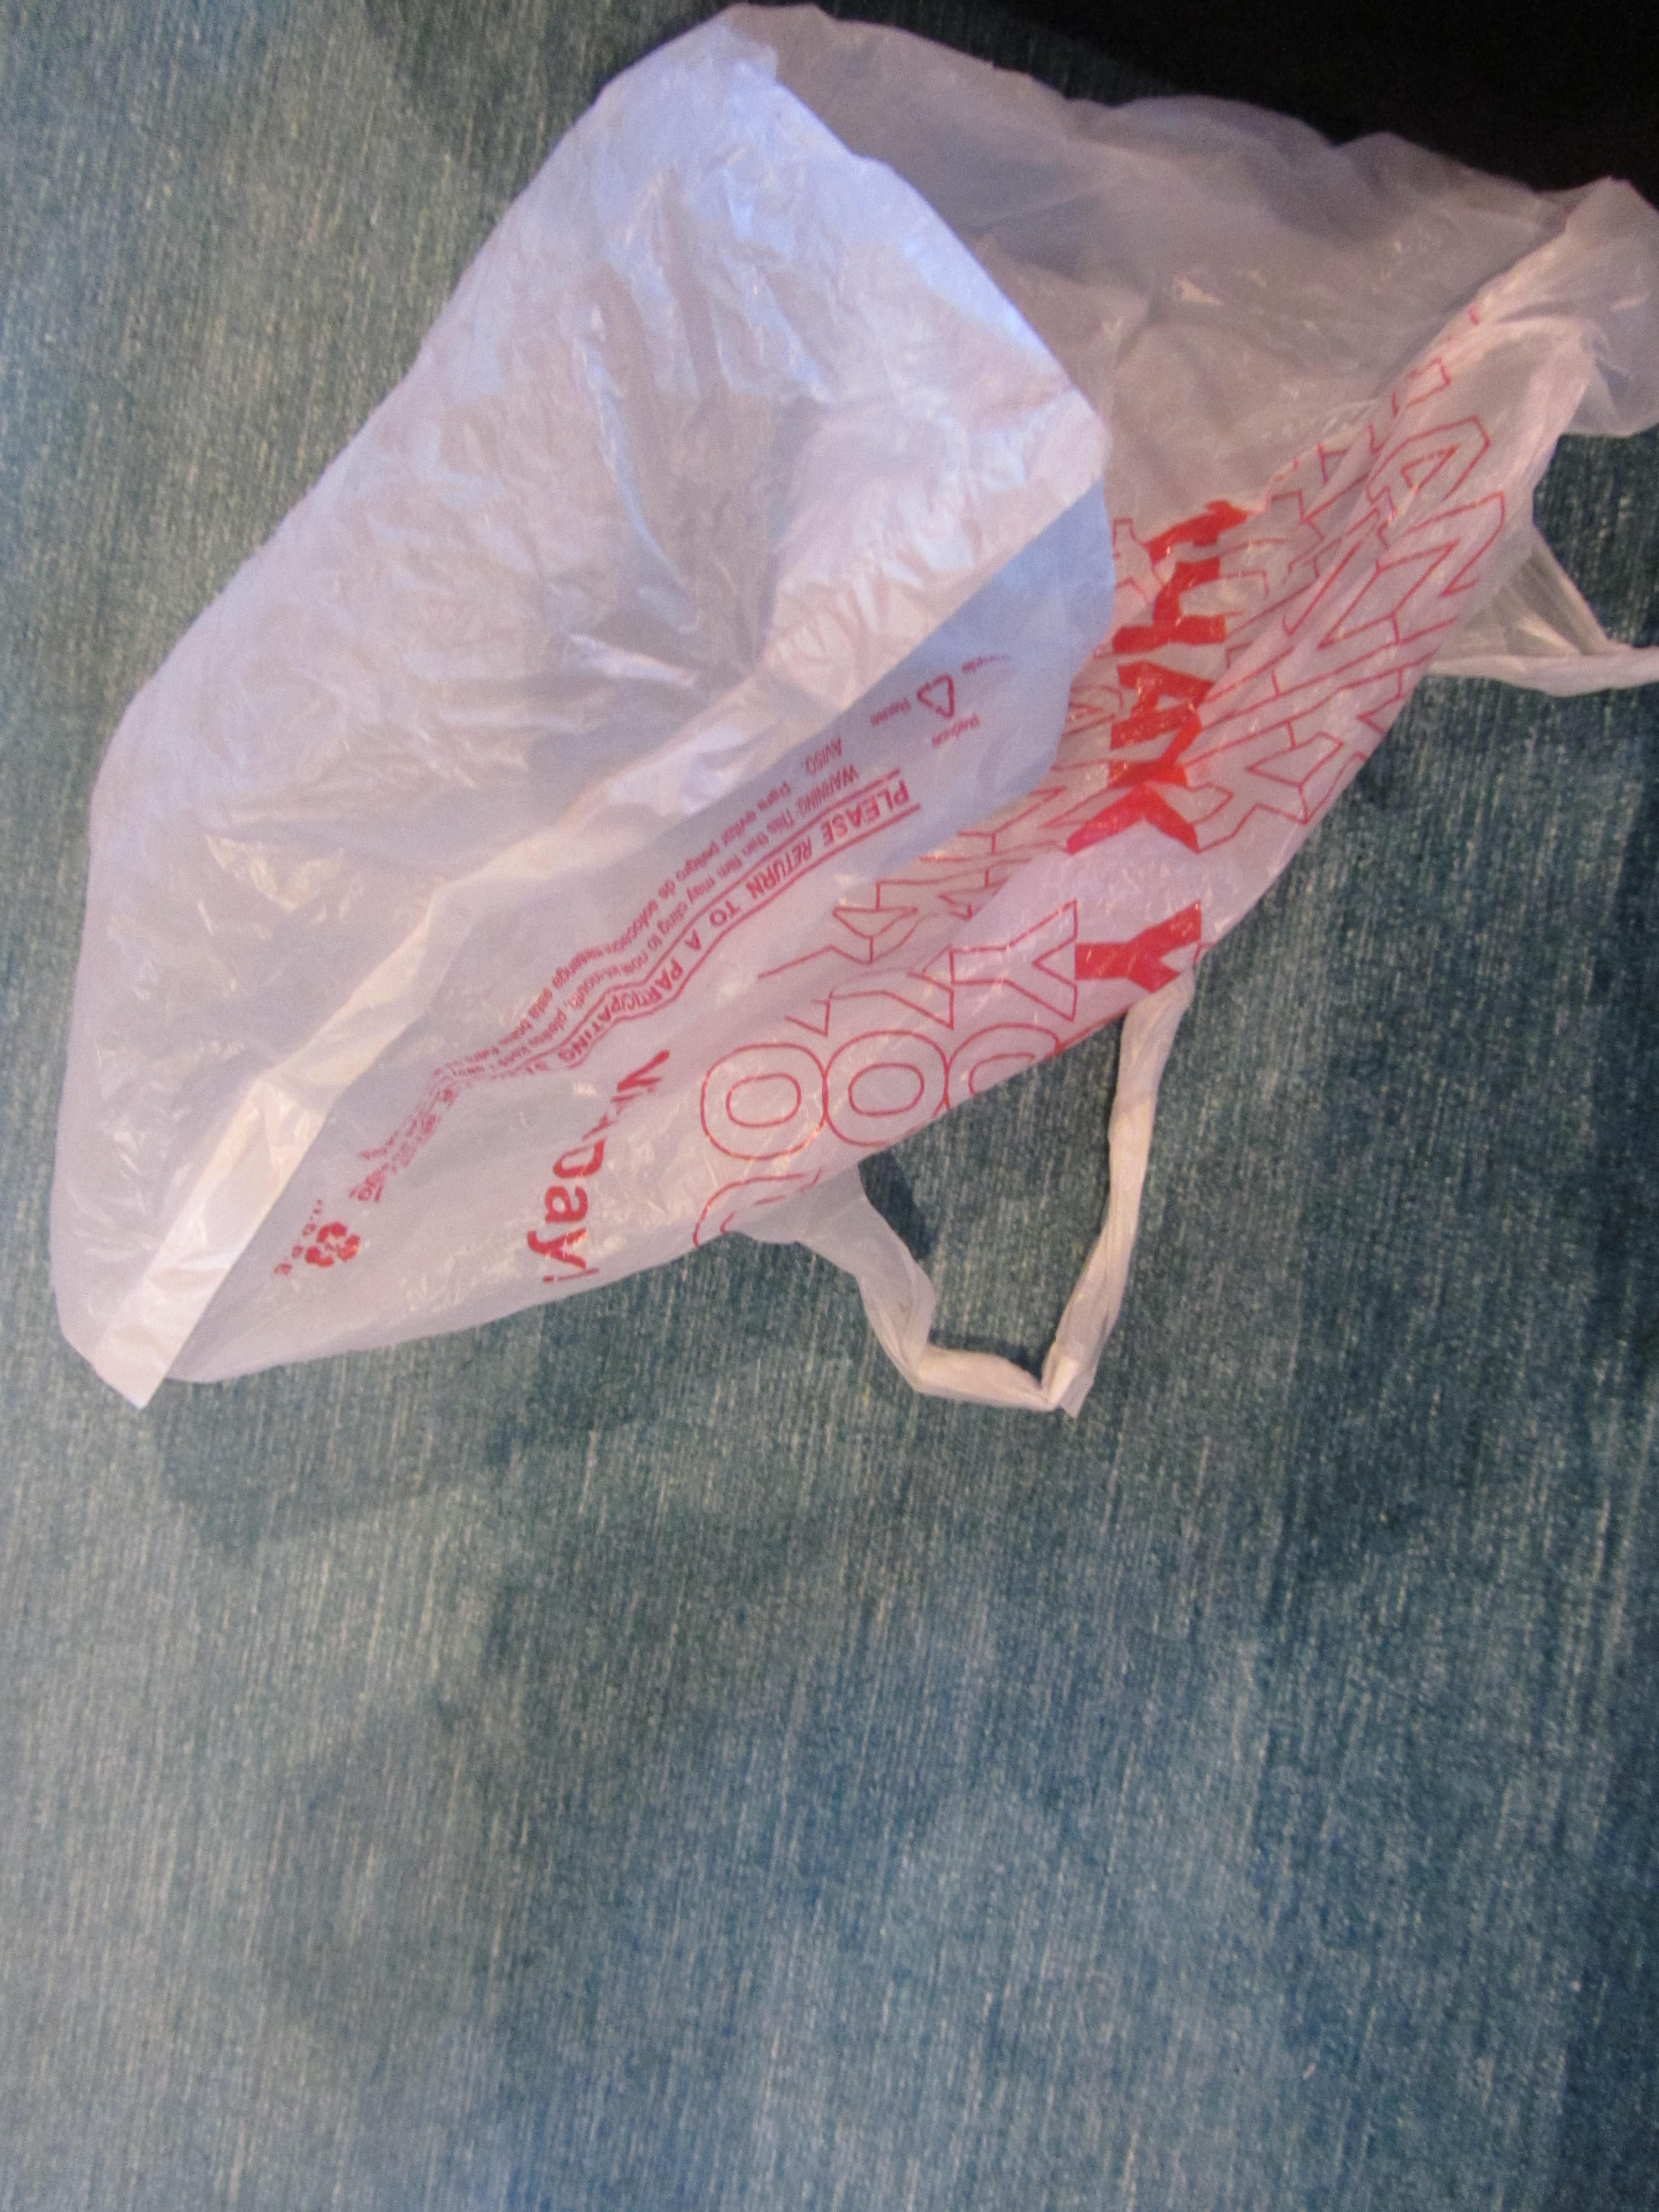plastic_bag: (33, 0, 1659, 1437)
